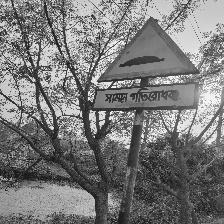Speed-breaker: (93, 16, 201, 114)
